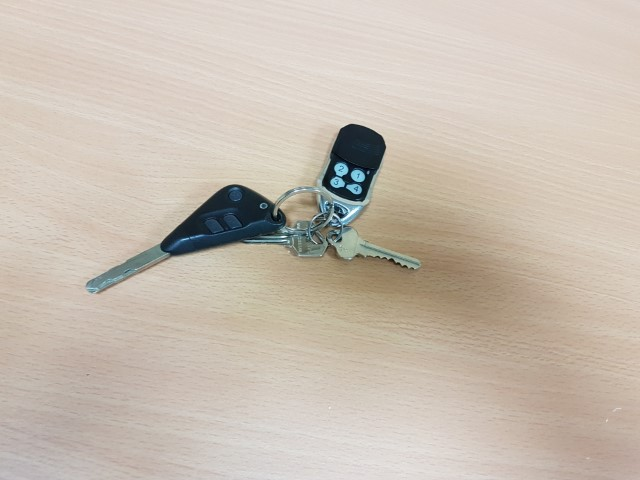key: (83, 184, 289, 294)
